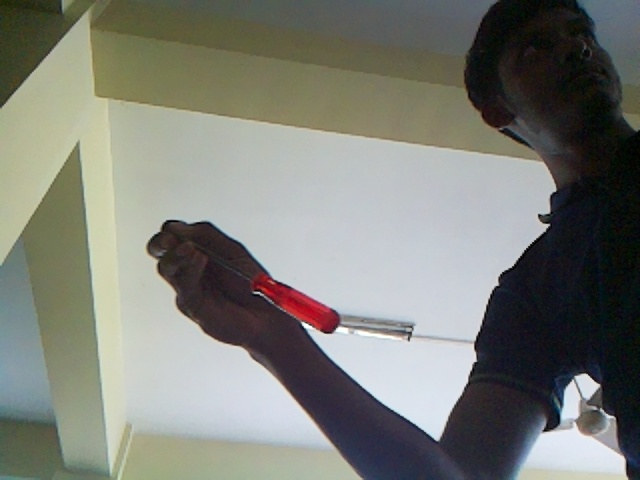redskrew: (184, 245, 349, 342)
